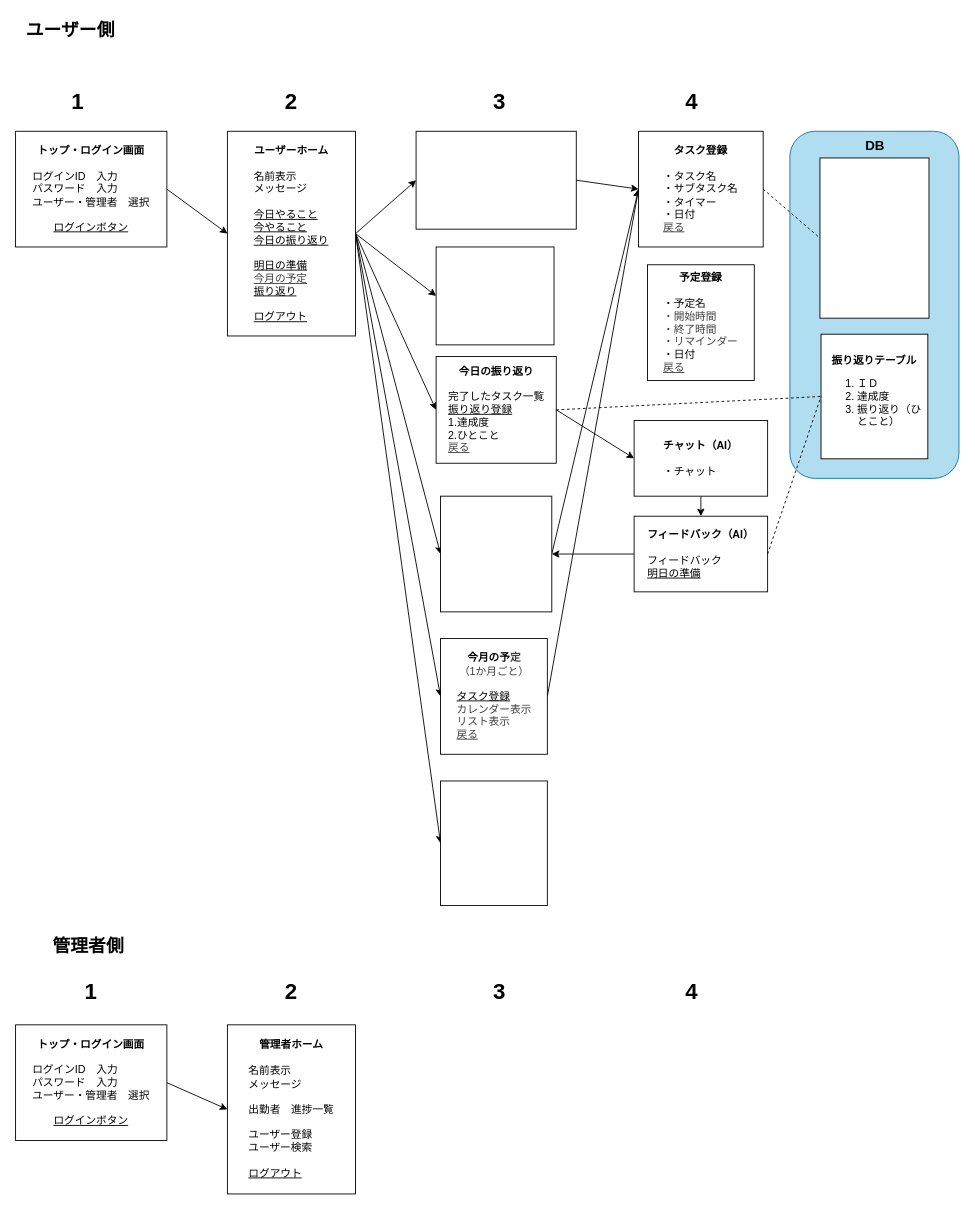
Image size: 975x1210. Some labels were removed from this diagram. Each missing label, with the centre of its shape:
タスクテーブル ＩＤ タスク名 サブタスク タイマー リマインダー 日付: the point at 874,237
今やること タスク（１つ） タイマー 開始ボタン 完了ボタン 戻る: the point at 494,295
今日やること タスク登録 タスク一覧（編集・削除） 優先順位追加 戻る: the point at 495,179
振り返り 過去のタスク 振り返りを見る 戻る: the point at 493,843
明日の準備 持ち物 タスク登録 タスク一覧 戻る: the point at 496,553
